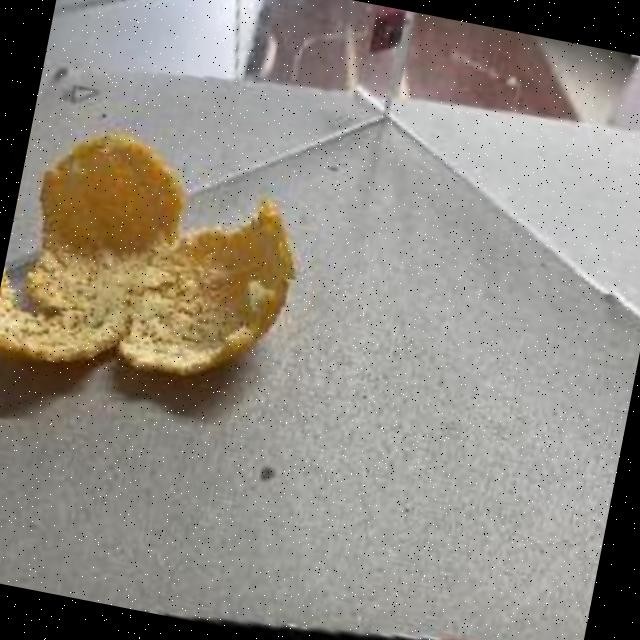orange-peel: (0, 109, 320, 411)
